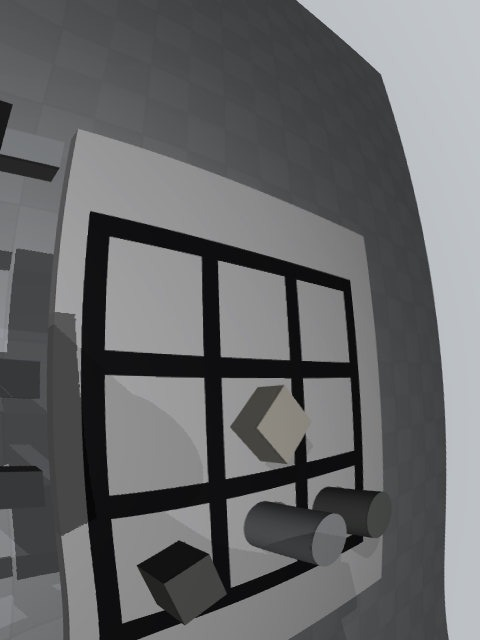can: (244, 501, 347, 567)
cube: (136, 541, 227, 625)
cylinder: (312, 487, 392, 538)
foam: (230, 385, 312, 464)
